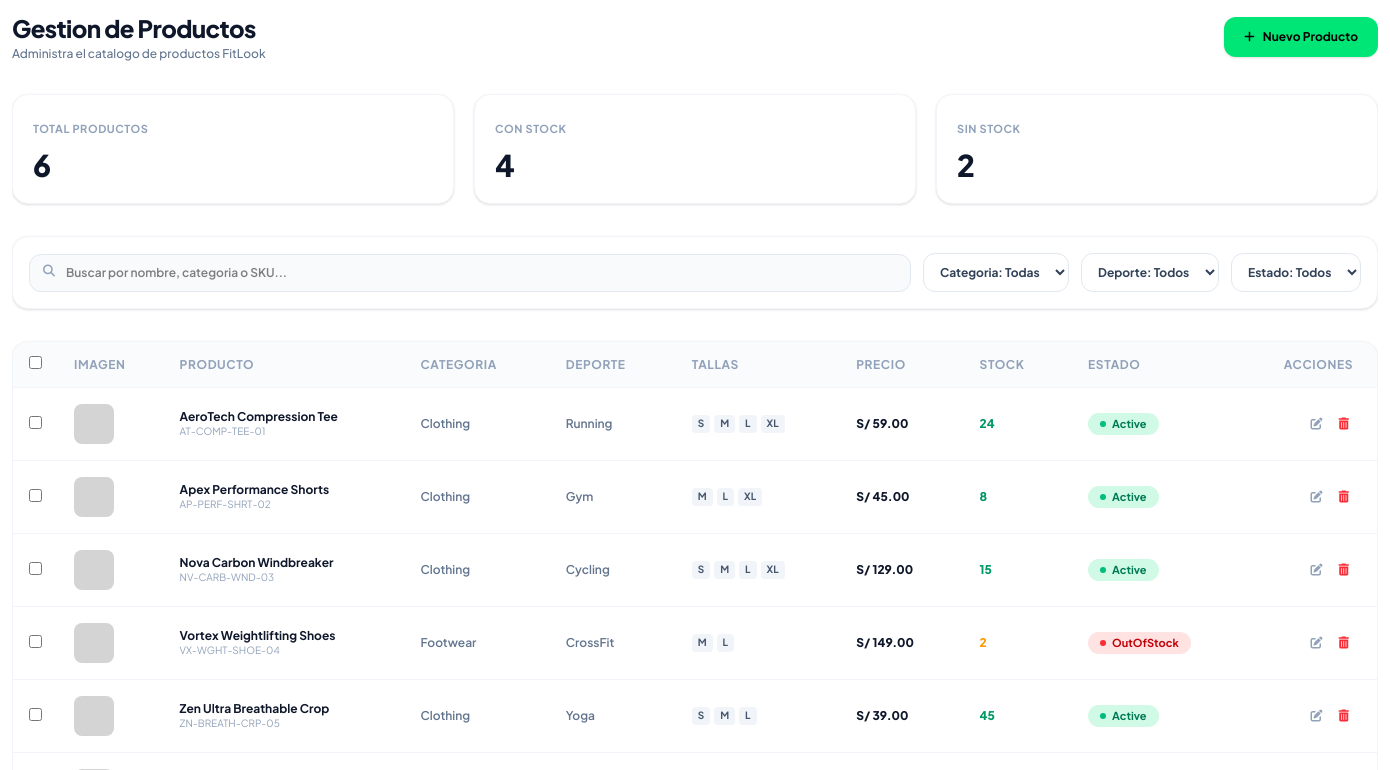
Scenario: AdminProducts › filtra por estado
This screenshot has width=1390, height=770.
Select "Inactive" in the 3rd dropdown. click: (1296, 272)
box: [1231, 253, 1361, 292]
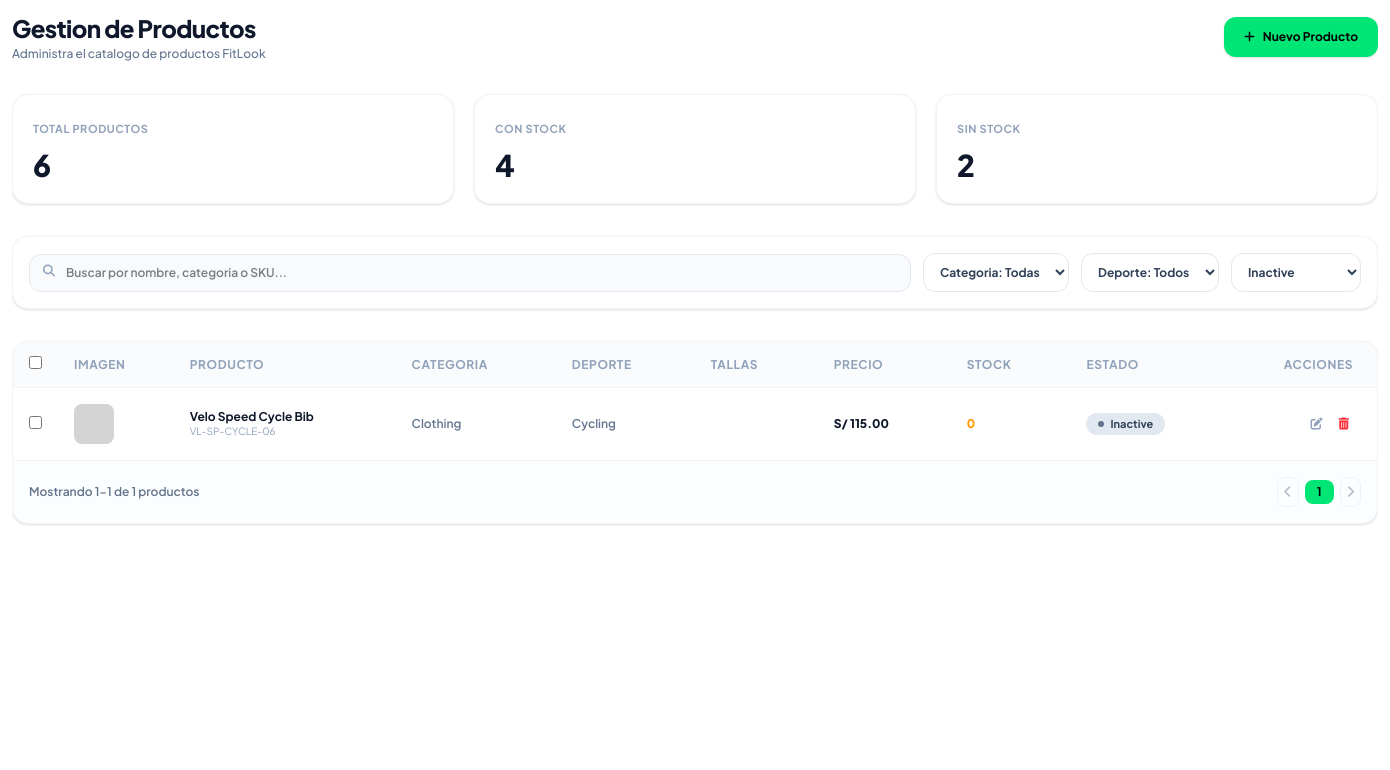
Expected: the text "Velo Speed Cycle Bib" is shown, [190, 409, 314, 424]
Result: the text "AeroTech Compression Tee" is gone
